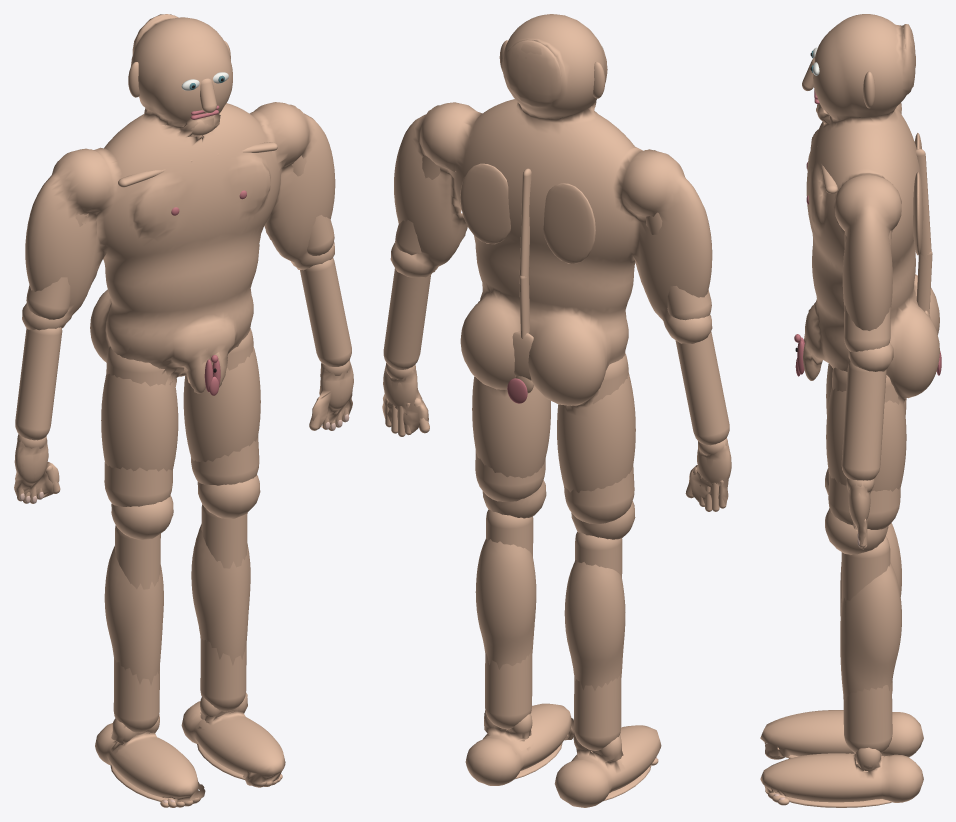
Rendered from body-erwachsener-divers-vulva-keine-brueste-v2.glb.
3 renders of one model, left to right at view 1: azimuth 30°, elevation 25°; view 2: azimuth 150°, elevation 25°; view 3: azimuth 270°, elevation 25°, orthographic. The views are drawn at different scales.
Visible parts, largest first — view 1: zone__visual-surface-body-erwachsener-divers-vulva-keine-bru, zone__surface-lower-leg-right, zone__surface-lower-leg-left, zone__surface-forearm-left, zone__surface-thigh-left, zone__surface-forearm-right, zone__surface-thigh-right, zone__surface-upper-arm-left, zone__surface-upper-arm-right; view 2: zone__visual-surface-body-erwachsener-divers-vulva-keine-bru, zone__surface-lower-leg-left, zone__surface-lower-leg-right, zone__surface-forearm-left, zone__surface-forearm-right, zone__surface-scapula-left, zone__surface-scapula-right, zone__surface-thigh-left, zone__surface-thigh-right, zone__surface-upper-arm-left, zone__surface-thoracic-spine, zone__surface-upper-arm-right (+1 smaller); view 3: zone__visual-surface-body-erwachsener-divers-vulva-keine-bru, zone__surface-lower-leg-right, zone__surface-forearm-right, zone__surface-thigh-right, zone__surface-upper-arm-right, zone__surface-thoracic-spine, zone__surface-lumbar-spine, zone__surface-scapula-right, zone__surface-sole-right, zone__surface-ear-right.
Part boxes in pixels (x1,y1,x2,y2): zone__visual-surface-body-erwachsener-divers-vulva-keine-bru: (14,14,353,802); zone__surface-lower-leg-right: (200,504,247,711); zone__surface-lower-leg-left: (113,525,160,732); zone__surface-forearm-left: (15,327,62,440); zone__surface-thigh-left: (104,346,173,506); zone__surface-forearm-right: (300,258,351,366); zone__surface-thigh-right: (190,328,259,485); zone__surface-upper-arm-left: (26,213,88,319); zone__surface-upper-arm-right: (291,155,334,255); zone__visual-surface-body-erwachsener-divers-vulva-keine-bru: (382,14,731,807); zone__surface-lower-leg-left: (574,532,622,750); zone__surface-lower-leg-right: (485,509,533,729); zone__surface-forearm-left: (675,331,729,445); zone__surface-forearm-right: (383,268,430,369); zone__surface-scapula-left: (543,183,595,263); zone__surface-scapula-right: (460,163,510,244); zone__surface-thigh-left: (564,353,634,523); zone__surface-thigh-right: (475,450,545,501); zone__surface-upper-arm-left: (646,212,711,320); zone__surface-thoracic-spine: (519,168,531,282); zone__surface-upper-arm-right: (395,155,456,255); zone__visual-surface-body-erwachsener-divers-vulva-keine-bru: (760,14,939,802); zone__surface-lower-leg-right: (841,536,892,753); zone__surface-forearm-right: (841,360,886,480); zone__surface-thigh-right: (828,367,900,529); zone__surface-upper-arm-right: (844,230,891,351); zone__surface-thoracic-spine: (915,149,931,259); zone__surface-lumbar-spine: (916,251,932,313); zone__surface-scapula-right: (913,172,923,255); zone__surface-sole-right: (786,796,892,807); zone__surface-ear-right: (863,71,875,108).
Bounding box in the file's own units: 0.8172 × 1.72 × 0.3729.
